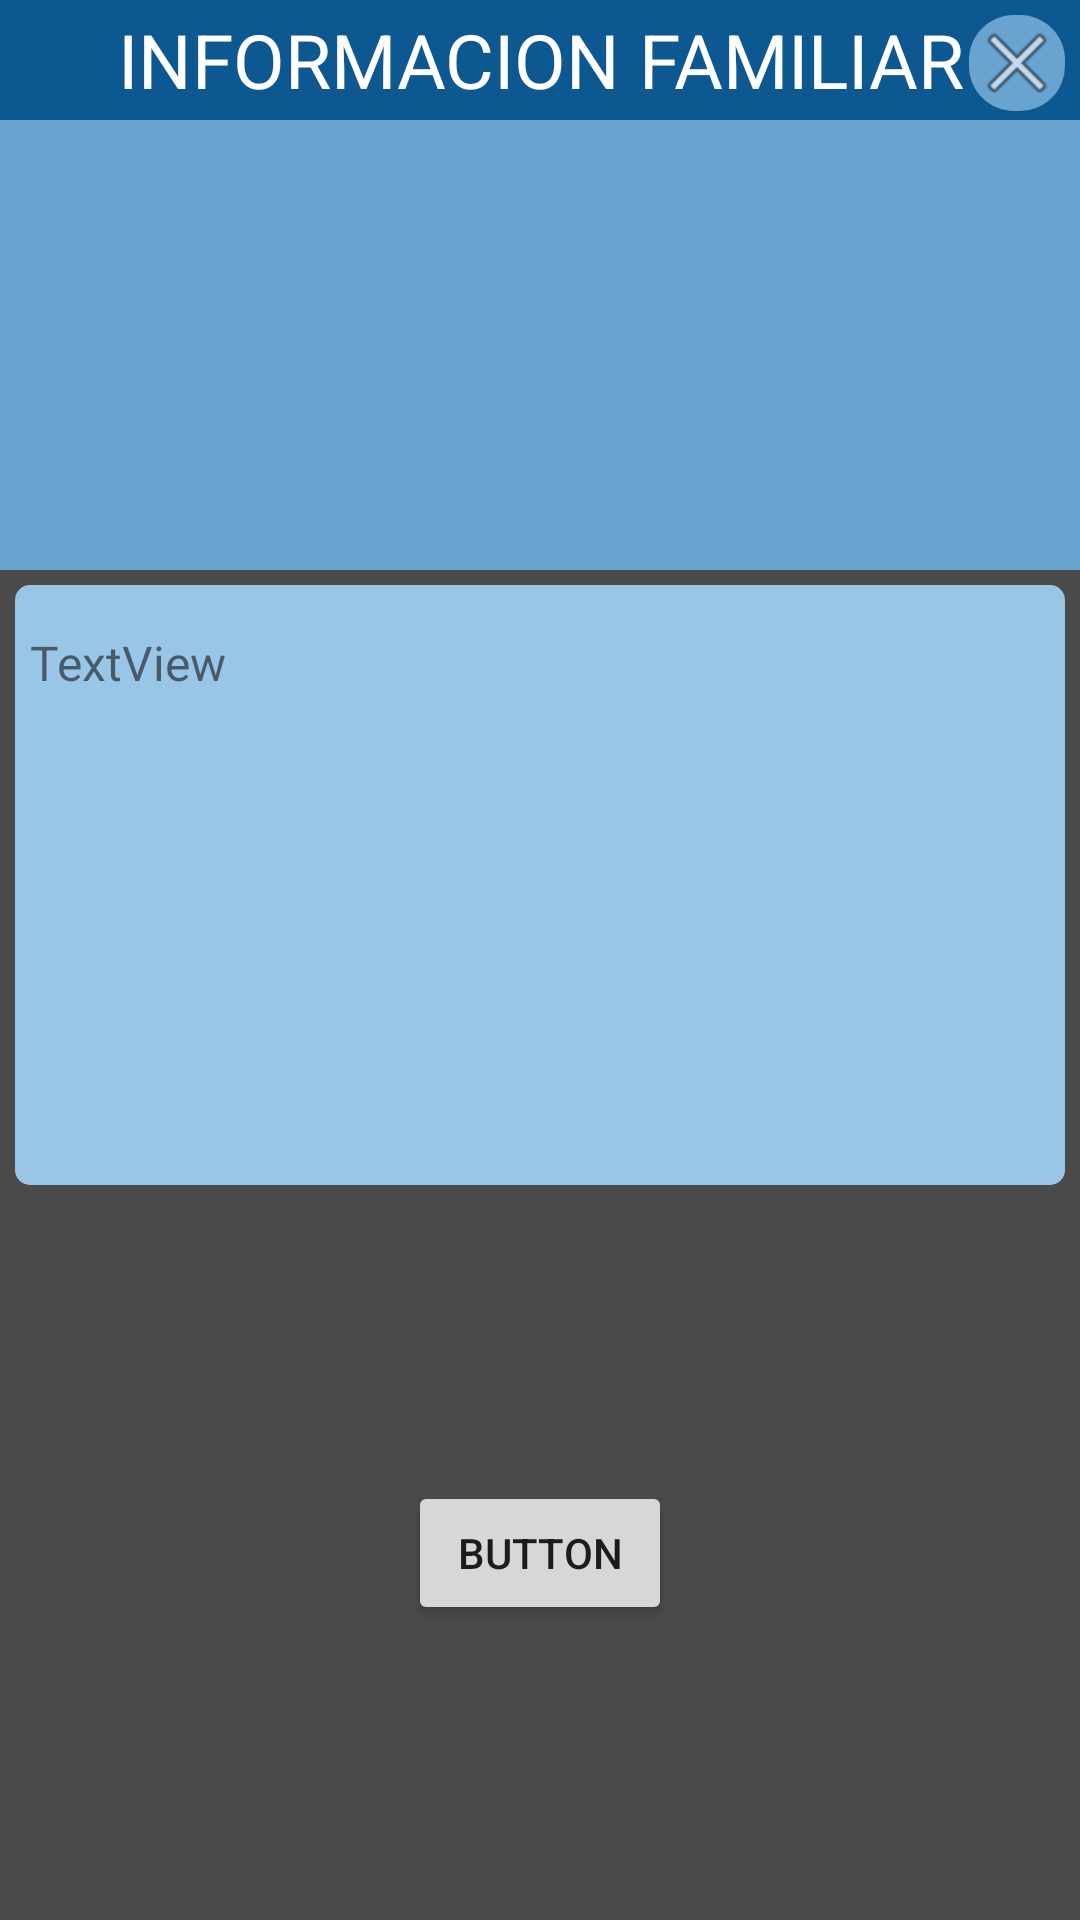

Where to tap for icons on this 1080 × 1920 app screen, as (x,y):
close clear cancel: (1017,63)
